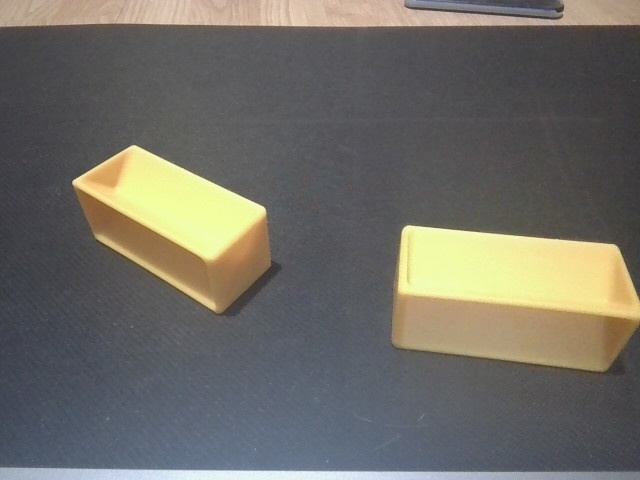YellowSample: (388, 222, 639, 378), (68, 141, 274, 318)
